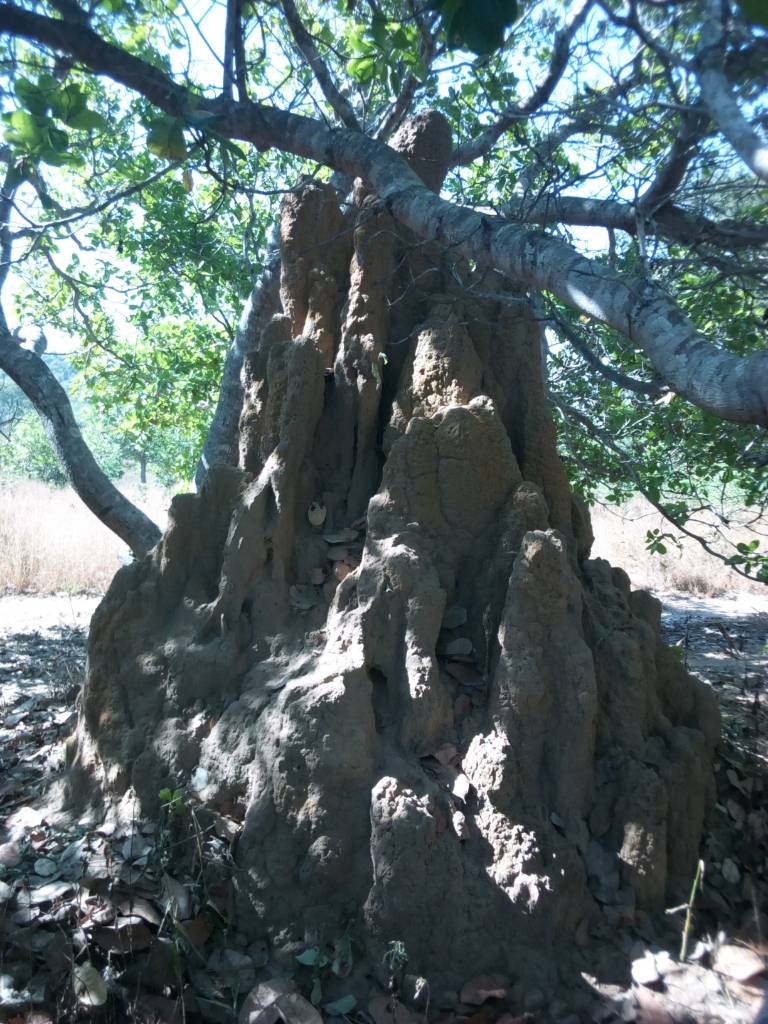Termites: (261, 257, 549, 977), (86, 471, 260, 817), (563, 561, 716, 910)
